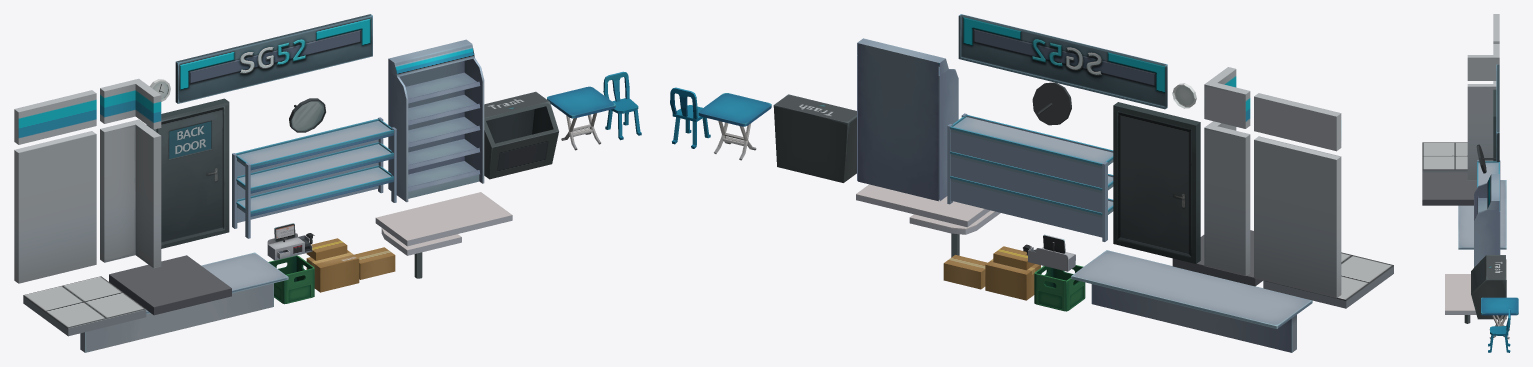
Rendered from Conveniance_Mod 1.fbx.
3 views of the same model, side by side, from view 1: azimuth 30°, elevation 25°; view 2: azimuth 150°, elevation 25°; view 3: azimuth 270°, elevation 25° (orthographic). The views are drawn at different scales.
Parts seen in each view (by area): view 1: DisplayStand_Drink, DisplayStand_Snack, Wall, BackDoor, Signboard, Wall_Corner, Counter, TrashBin, Floor, Road, LongTable_01, Wall_Upper (+10 smaller); view 2: DisplayStand_Snack, DisplayStand_Drink, Wall, BackDoor, Counter, Signboard, Wall_Corner, TrashBin, Wall_Upper, Floor, LongTable_01, Wall_Upper_Corner (+10 smaller); view 3: Wall_Corner, DisplayStand_Drink, Road, TrashBin, Floor, Counter, LongTable_01, Wall_Upper_Corner, Table, DisplayStand_Snack, Signboard, Chair (+3 smaller).
Boxes of the visible parts, <box> form: DisplayStand_Drink: <box>388,39,484,202</box>; DisplayStand_Snack: <box>232,117,396,238</box>; Wall: <box>14,131,96,283</box>; BackDoor: <box>147,98,229,248</box>; Signboard: <box>175,14,372,103</box>; Wall_Corner: <box>100,119,161,268</box>; Counter: <box>80,252,288,352</box>; TrashBin: <box>484,91,558,179</box>; Floor: <box>23,276,146,336</box>; Road: <box>109,255,231,315</box>; LongTable_01: <box>375,192,512,246</box>; Wall_Upper: <box>14,90,96,144</box>; DisplayStand_Snack: <box>947,113,1113,241</box>; DisplayStand_Drink: <box>857,38,958,201</box>; Wall: <box>1254,136,1341,298</box>; BackDoor: <box>1113,102,1200,263</box>; Counter: <box>1071,250,1312,352</box>; Signboard: <box>958,14,1167,109</box>; Wall_Corner: <box>1204,121,1250,275</box>; TrashBin: <box>773,94,856,182</box>; Wall_Upper: <box>1254,93,1341,151</box>; Floor: <box>1263,252,1393,308</box>; LongTable_01: <box>856,184,990,227</box>; Wall_Upper_Corner: <box>1204,67,1250,128</box>; Wall_Corner: <box>1467,81,1496,180</box>; DisplayStand_Drink: <box>1474,174,1499,267</box>; Road: <box>1422,172,1476,205</box>; TrashBin: <box>1471,255,1506,319</box>; Floor: <box>1422,142,1467,172</box>; Counter: <box>1458,180,1506,249</box>; LongTable_01: <box>1445,274,1476,314</box>; Wall_Upper_Corner: <box>1467,44,1499,80</box>; Table: <box>1481,297,1518,339</box>; DisplayStand_Snack: <box>1477,160,1500,254</box>; Signboard: <box>1496,64,1499,161</box>; Chair: <box>1488,308,1510,352</box>.
Bounding box in the file's own units: 1275 × 496 × 239.
